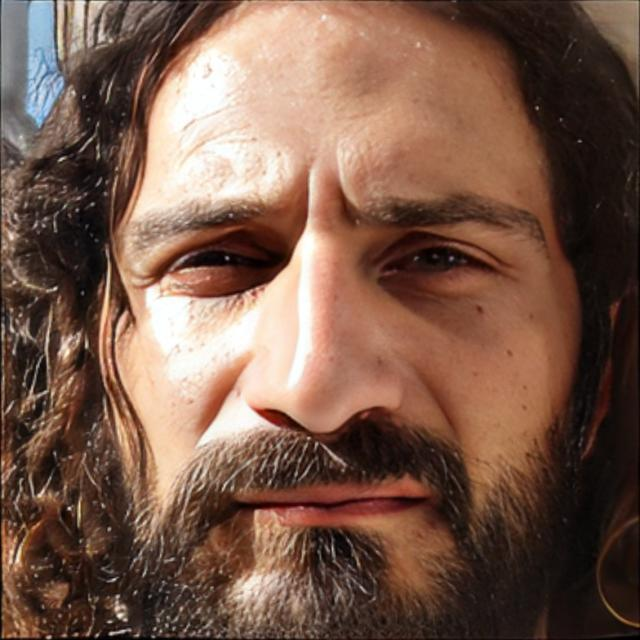disgust: (97, 0, 584, 640)
